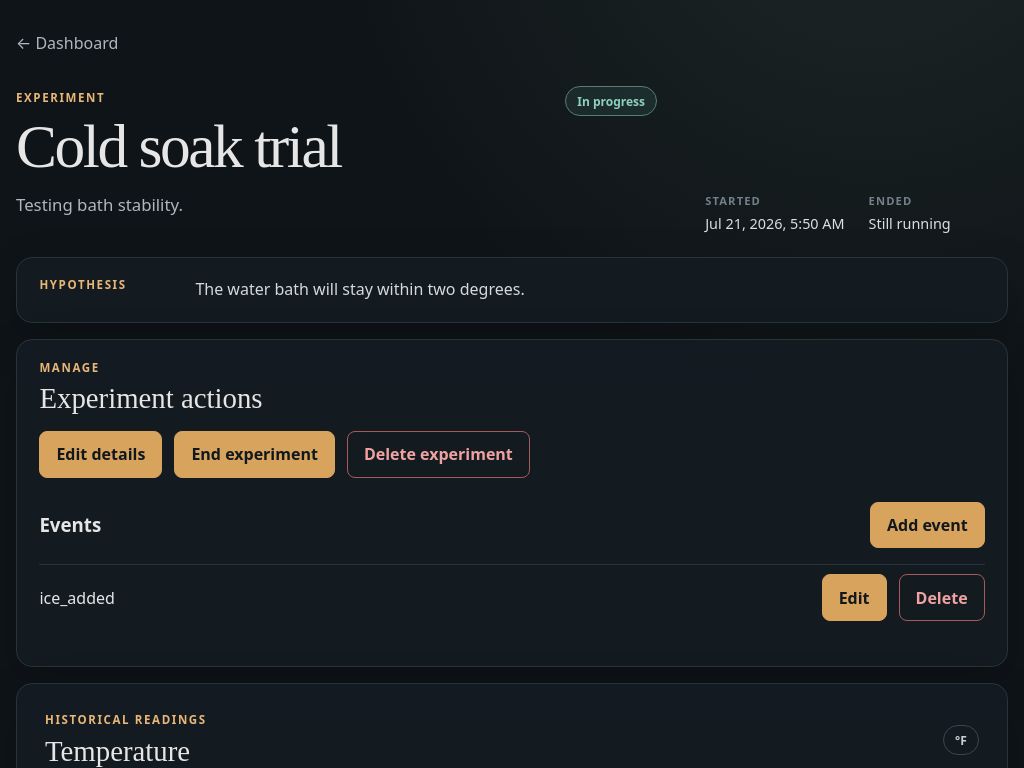
Test: experiment route › closes a completed lifecycle form after a successful update
expect the heading "Cold soak trial" is shown: met, box [16,112,341,180]
Click the button "End experiment" at {"x": 255, "y": 454}, box [174,431,335,478]
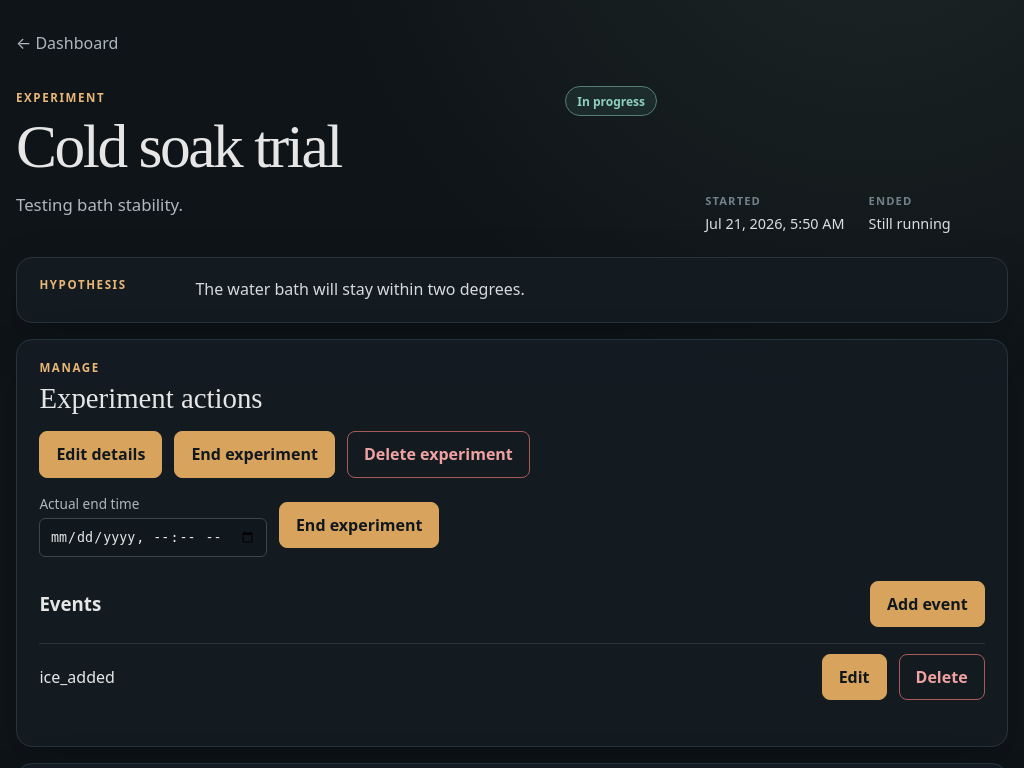
Type "2026-07-21T08:00" into the field labelled "Actual end time" at {"x": 153, "y": 537}, box [39,518,267,557]
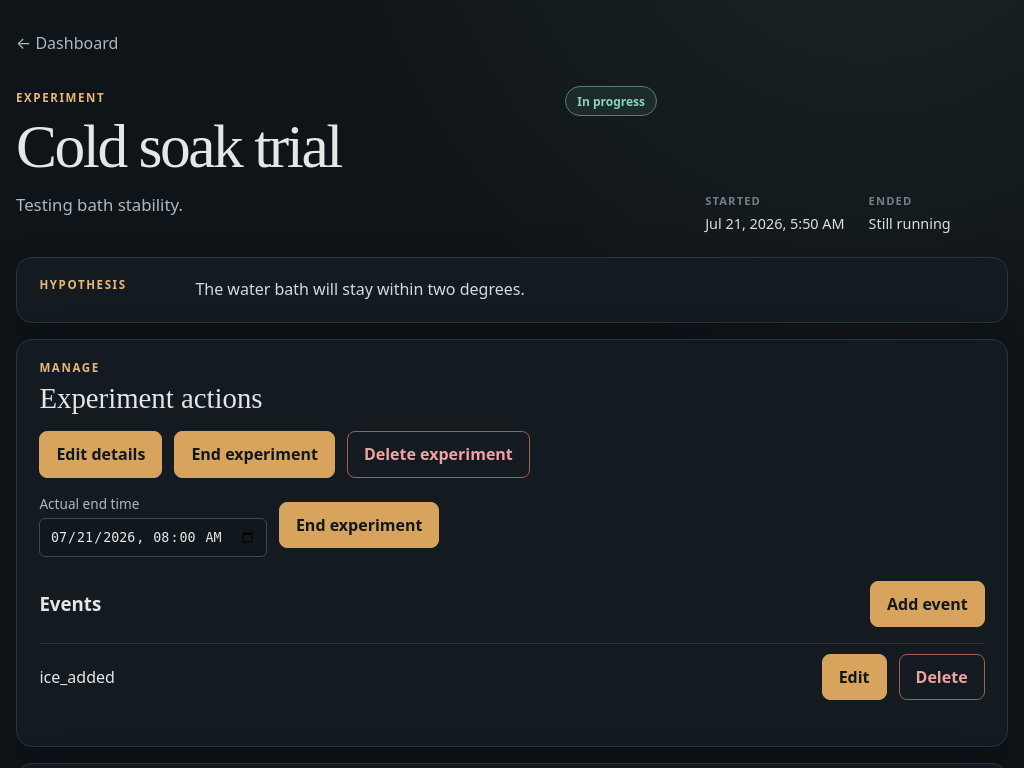
Click the button "End experiment" next to "Actual end time" at {"x": 359, "y": 525}, box [279,502,439,548]
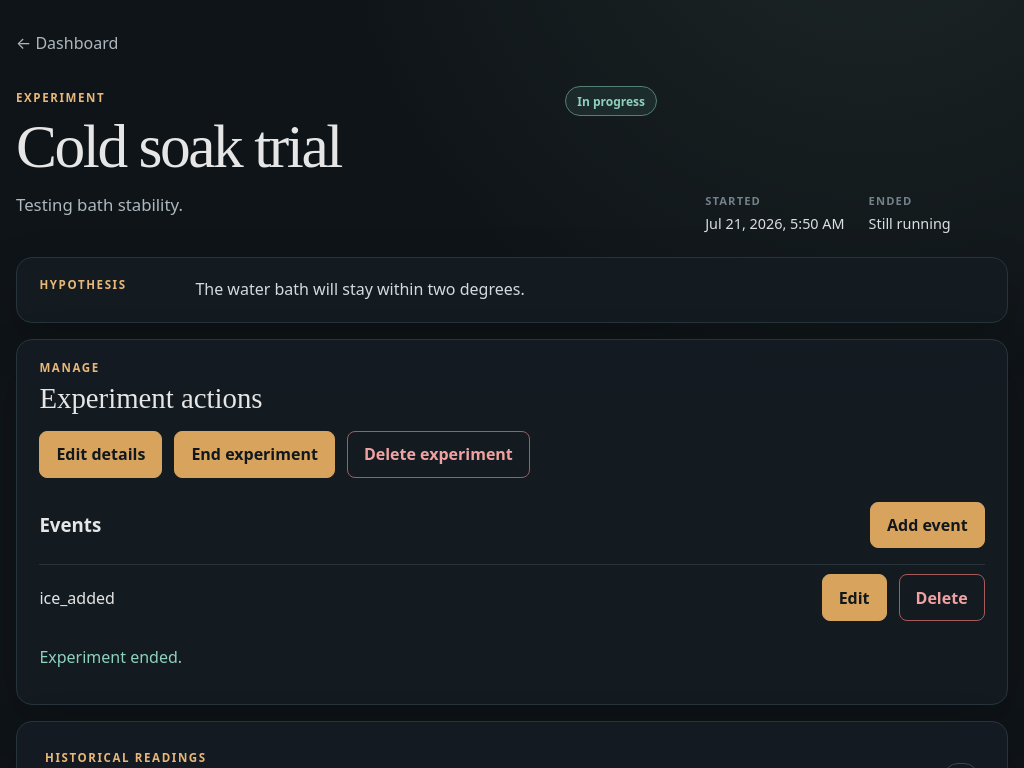
expect the message reads "Experiment ended.": met, box [39,646,182,668]
expect the label labelled "Actual end time" is gone: met
